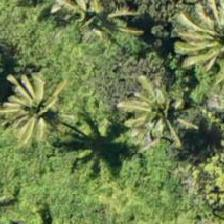coconut_tree: (115, 63, 205, 153), (0, 71, 65, 161), (169, 0, 223, 83), (36, 0, 126, 49)
